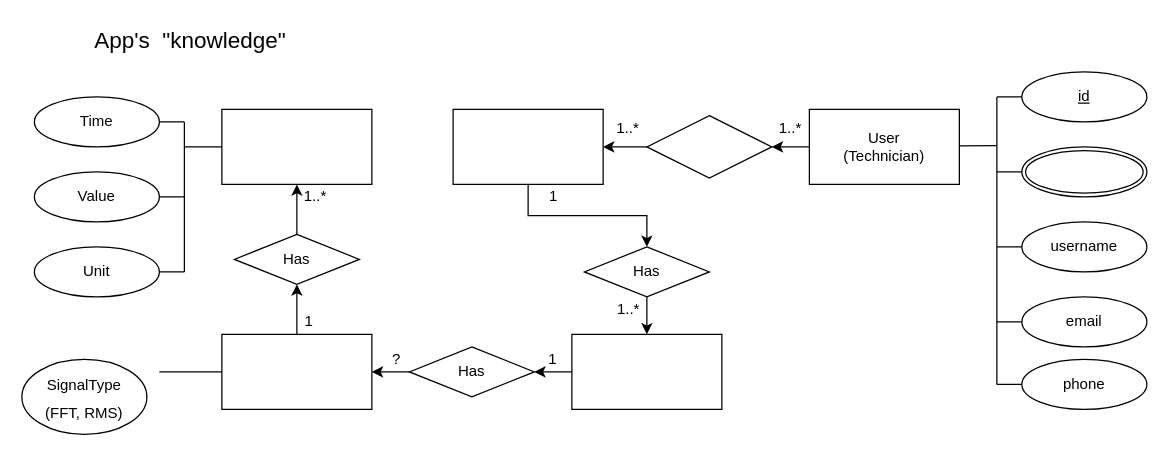
Image size: 1169x456. Some labels were removed from this diagram. The box of each missing label's shape, as (x1, y1, x2, y2) in pixels:
Machine: (452, 108, 603, 184)
Maintains: (646, 114, 772, 178)
permissions: (1021, 146, 1147, 197)
Sensor: (571, 333, 722, 409)
Signal: (221, 333, 372, 409)
ValueTimestamp: (221, 108, 372, 184)
